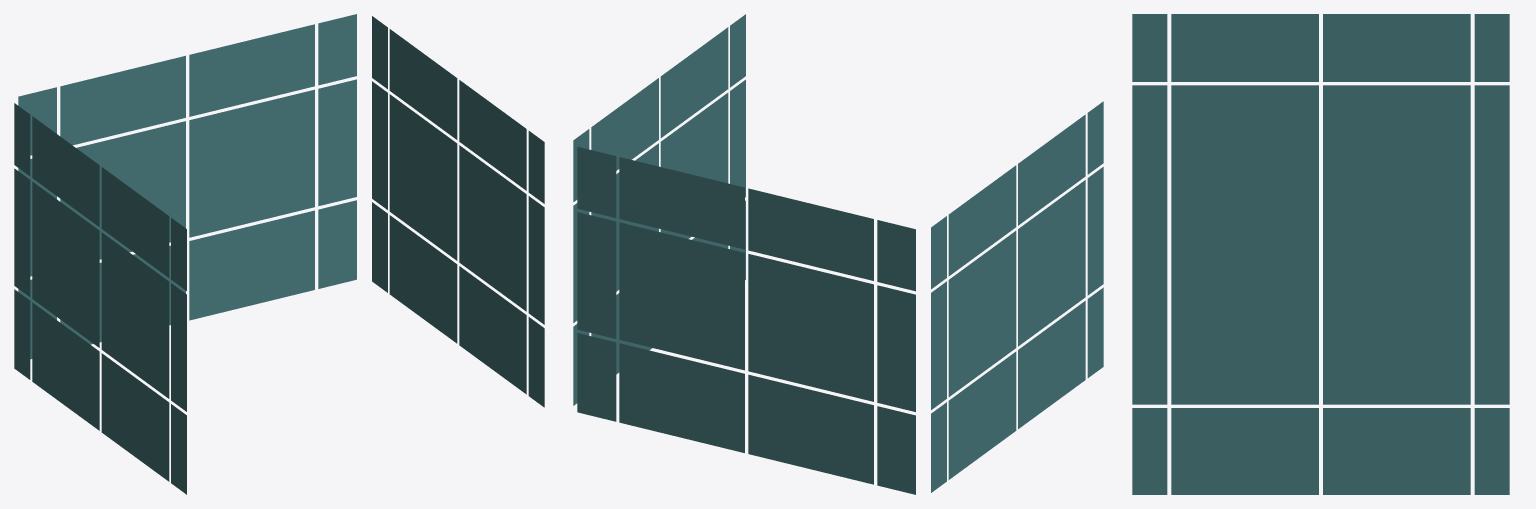
The model's file is SW_ENV_Elevator_Shaft_ELStationLevel_Glass.fbx.
The picture shows the model from 3 angles, left to right: view 1: azimuth 30°, elevation 25°; view 2: azimuth 150°, elevation 25°; view 3: azimuth 270°, elevation 25°; orthographic projection. The views are drawn at different scales.
Visible parts, largest first — view 1: SW_ENV_Elevator_Shaft_ELStationLevel_Glass; view 2: SW_ENV_Elevator_Shaft_ELStationLevel_Glass; view 3: SW_ENV_Elevator_Shaft_ELStationLevel_Glass.
Boxes of the visible parts, x1,y1,x2,y2 form: SW_ENV_Elevator_Shaft_ELStationLevel_Glass: [14, 14, 544, 494]; SW_ENV_Elevator_Shaft_ELStationLevel_Glass: [573, 14, 1103, 494]; SW_ENV_Elevator_Shaft_ELStationLevel_Glass: [1132, 14, 1509, 494].
Bounding box in the file's own units: 452 × 321 × 390.
